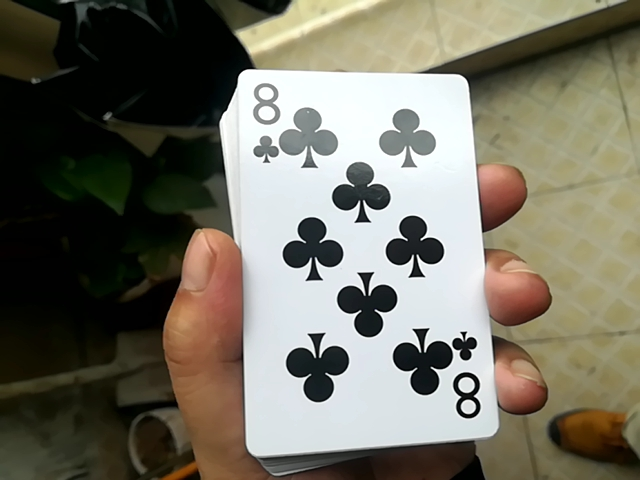mh 8: (226, 55, 487, 464)
